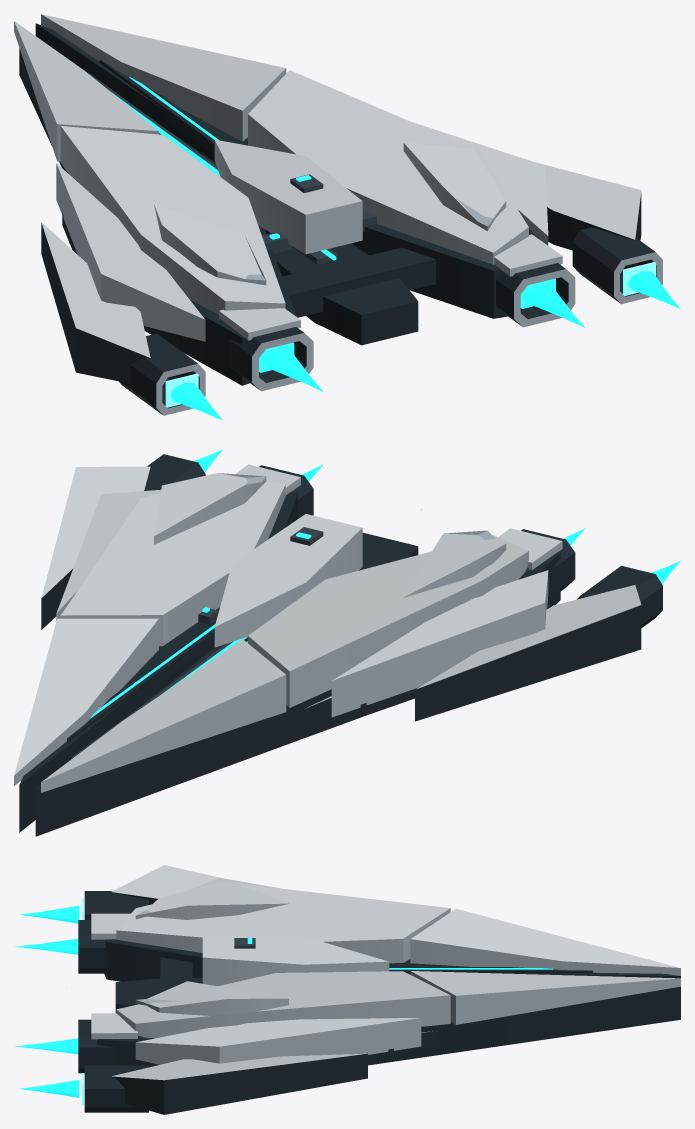
File: 04_kreuzer.glb
3 renders of one model, top to bottom at view 1: azimuth 30°, elevation 25°; view 2: azimuth 150°, elevation 25°; view 3: azimuth 270°, elevation 25°, orthographic. The views are drawn at different scales.
Visible parts, largest first — view 1: Hull, energy_2, energy_1; view 2: Hull; view 3: Hull, energy_2, energy_1.
Part boxes in pixels (x1,y1,x2,y2): Hull: (14, 14, 680, 420); energy_2: (520, 279, 584, 327); energy_1: (259, 342, 323, 391); Hull: (14, 449, 680, 836); Hull: (19, 865, 680, 1114); energy_2: (15, 1038, 78, 1054); energy_1: (15, 938, 78, 954).
Bounding box in the file's own units: 12.99 × 2.23 × 17.01.
